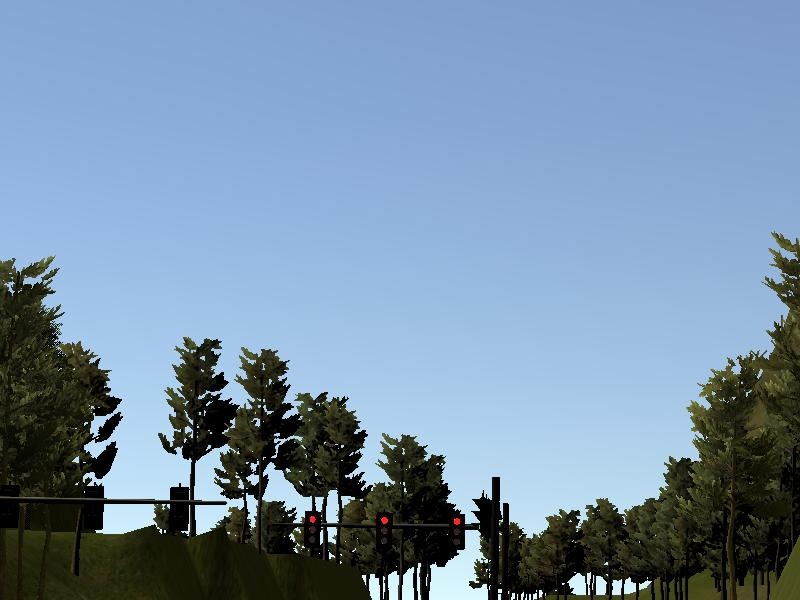traffic_light_red: (279, 504, 488, 553)
